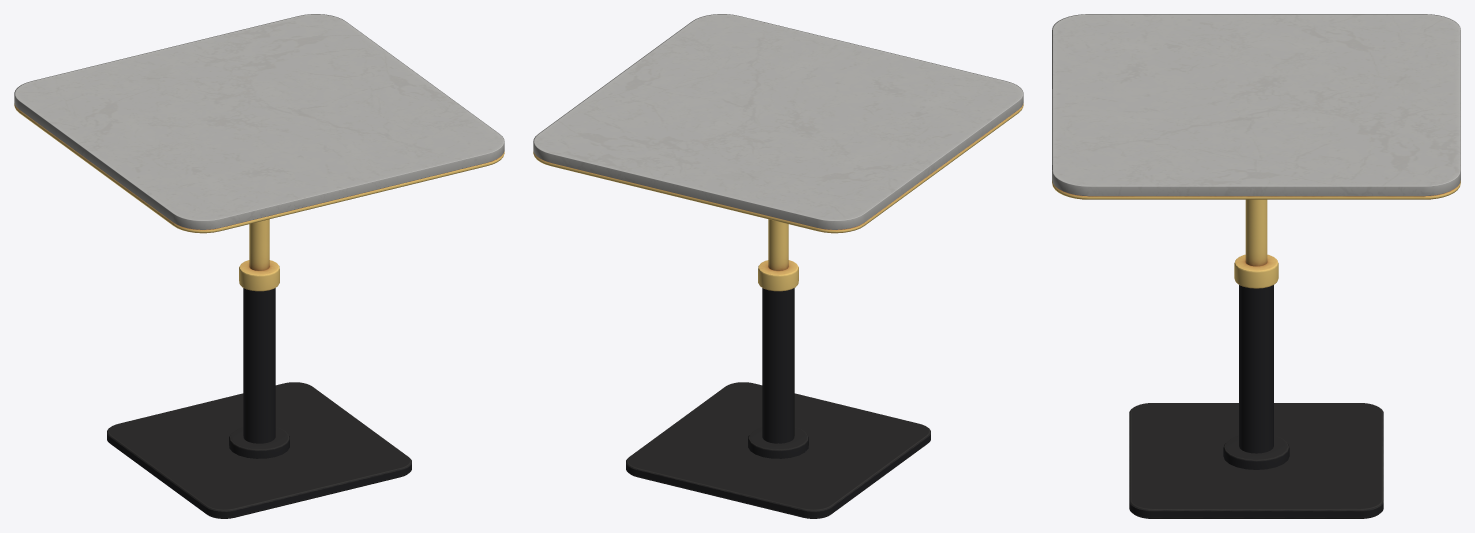
The model's file is CommunityRoomA_Table.fbx.
3 views of the same model, side by side, from view 1: azimuth 30°, elevation 25°; view 2: azimuth 150°, elevation 25°; view 3: azimuth 270°, elevation 25° (orthographic). The views are drawn at different scales.
Parts seen in each view (by area): view 1: CommunityRoomA_Table; view 2: CommunityRoomA_Table; view 3: CommunityRoomA_Table.
Boxes of the visible parts, x1,y1,x2,y2 form: CommunityRoomA_Table: (14,14,504,518); CommunityRoomA_Table: (533,14,1023,518); CommunityRoomA_Table: (1052,14,1460,518).
Size of the model in its own units: 74.65 by 73.66 by 74.65.
